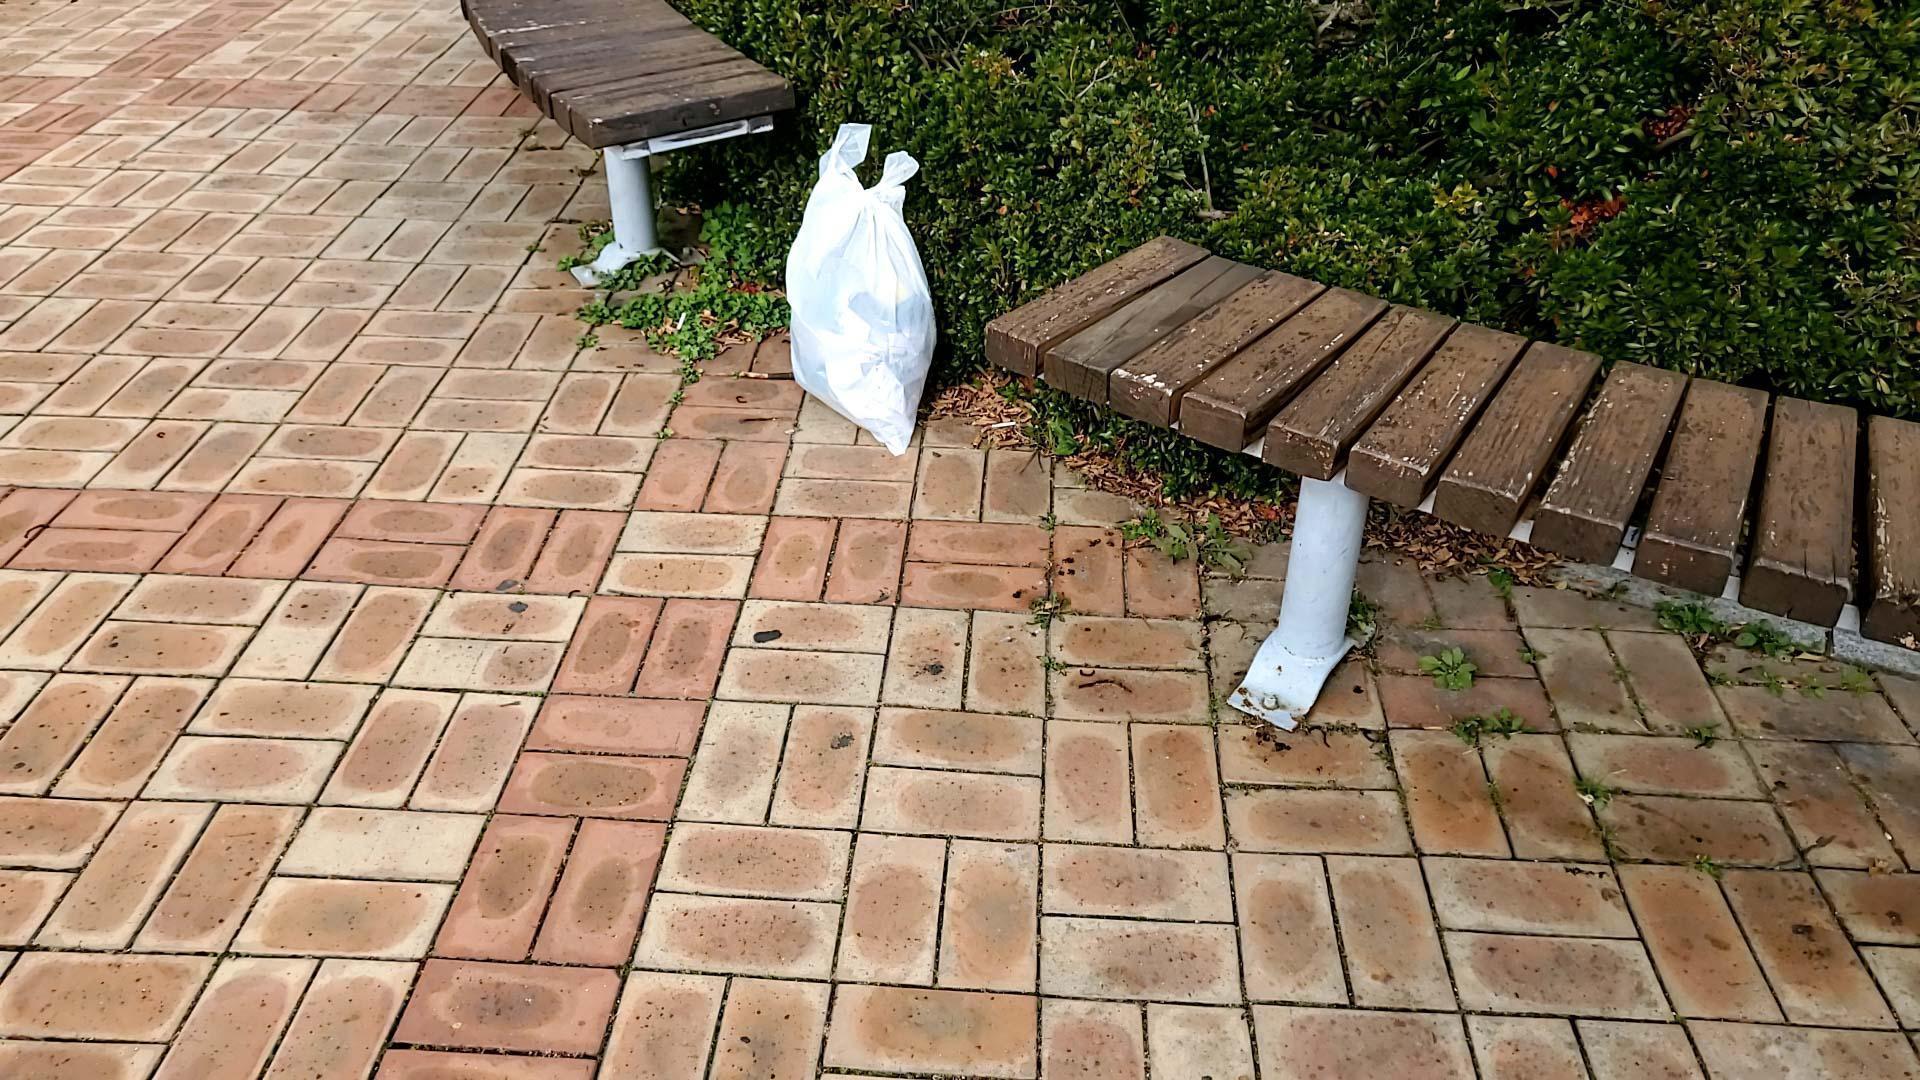white_bag: (760, 113, 963, 467)
